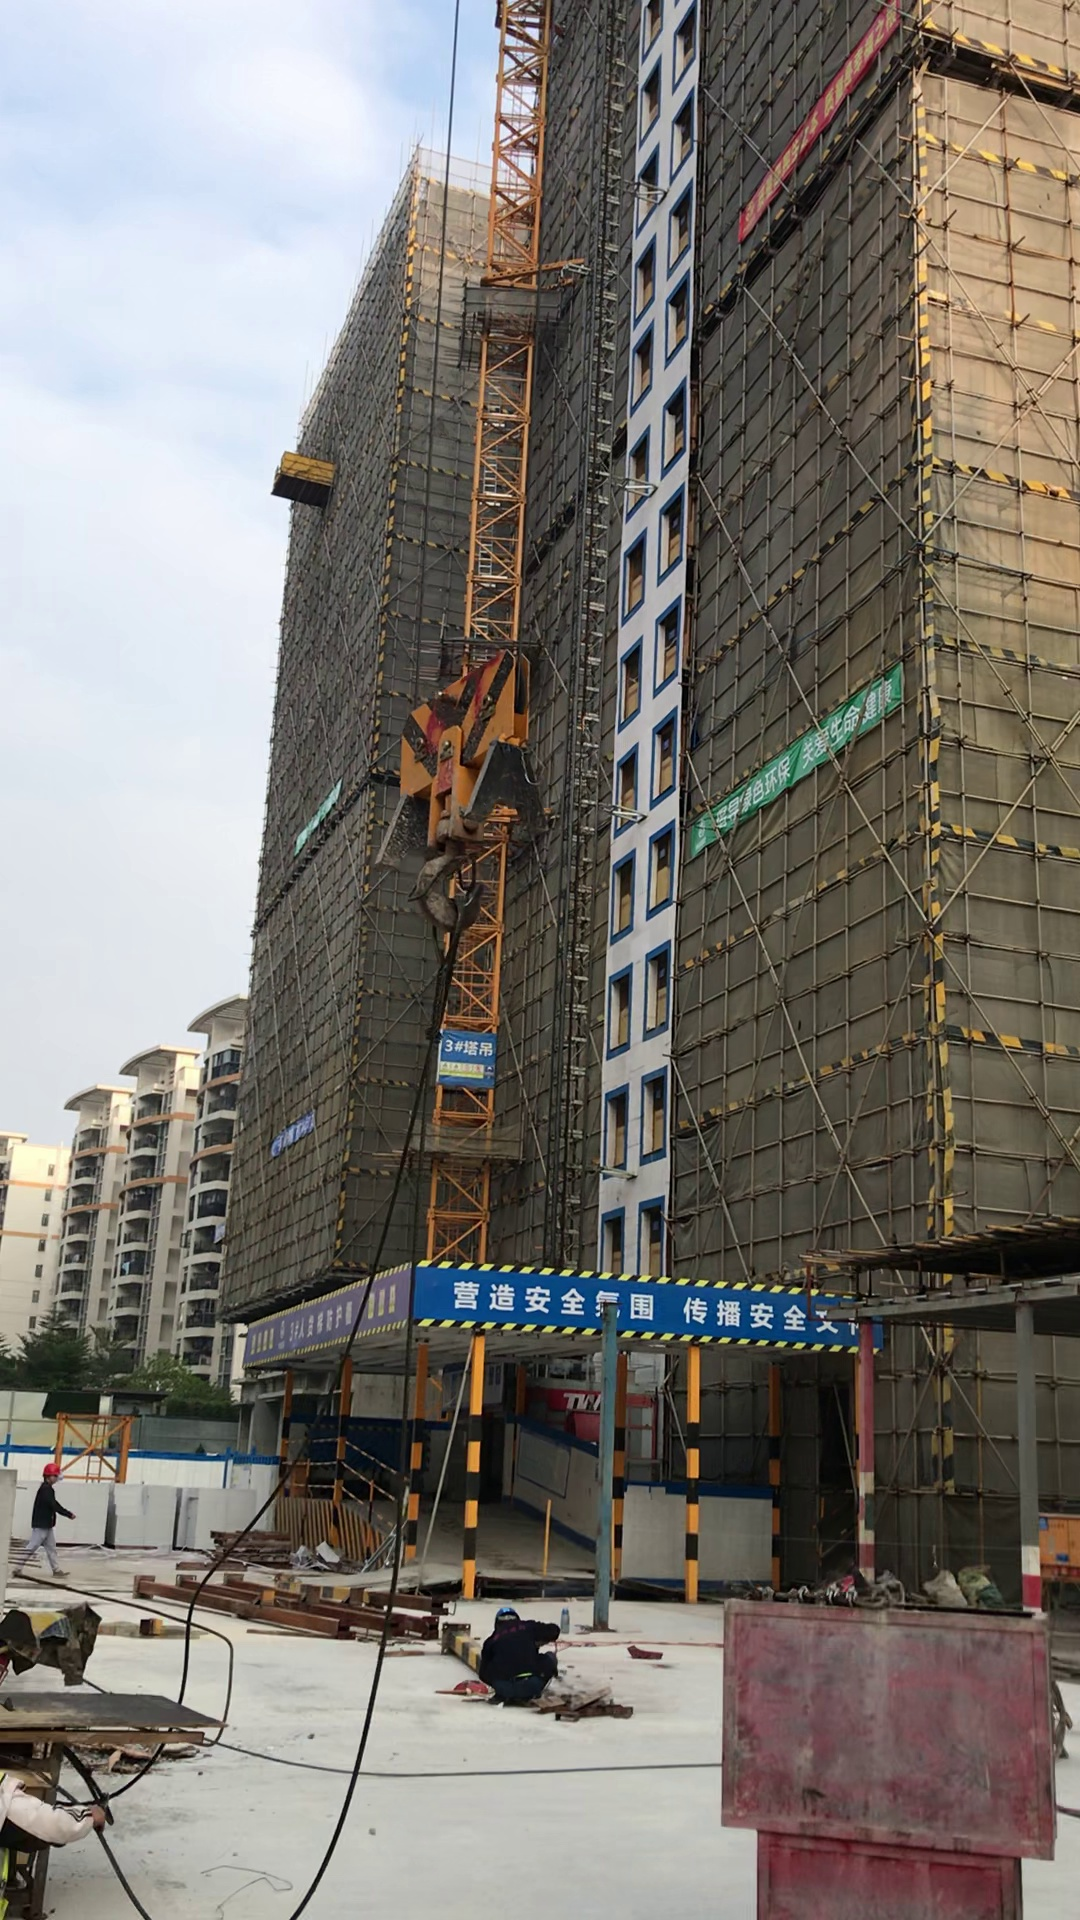brick: (181, 1486, 265, 1552), (110, 1480, 183, 1553), (62, 1477, 115, 1545)
cutter: (1, 1681, 224, 1920)
ebox: (1028, 1506, 1079, 1584)
helmet: (493, 1605, 524, 1623), (41, 1460, 66, 1477)
hook: (372, 635, 557, 934)
person: (458, 1605, 593, 1709), (8, 1454, 89, 1586)
slogan: (679, 681, 912, 857), (426, 1259, 864, 1351), (743, 34, 889, 228), (239, 1255, 421, 1373)
